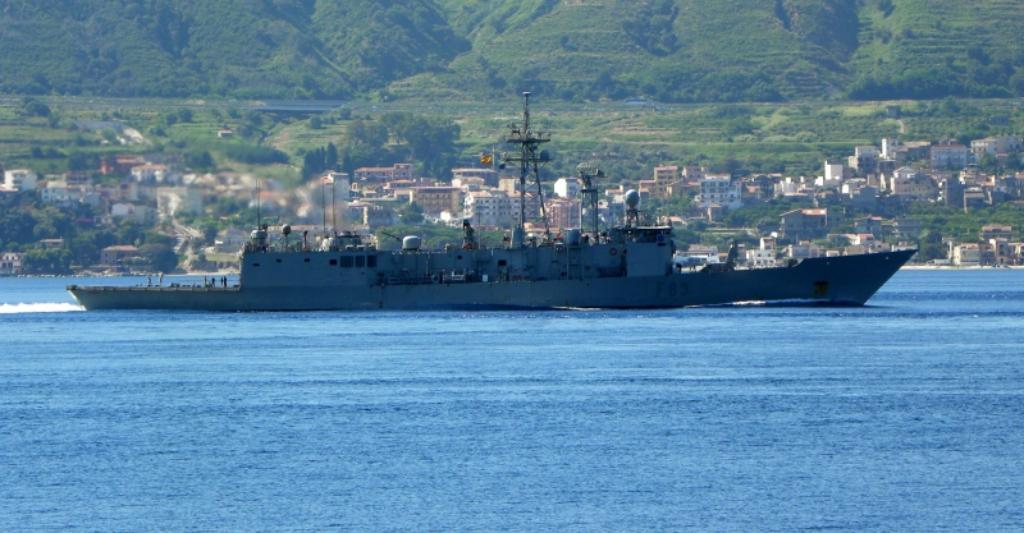Warship: (60, 87, 930, 317)
